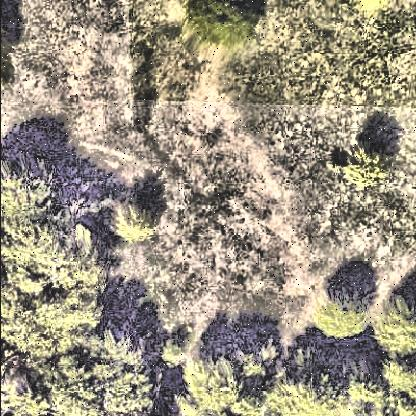tree-top: (6, 160, 102, 362), (47, 326, 156, 416), (268, 350, 348, 416), (182, 1, 272, 50), (188, 346, 250, 416), (332, 136, 394, 204), (314, 276, 372, 344), (107, 186, 163, 246), (1, 363, 51, 416), (230, 325, 279, 379), (375, 295, 416, 359), (158, 324, 200, 375), (349, 370, 385, 410), (384, 357, 416, 396)
